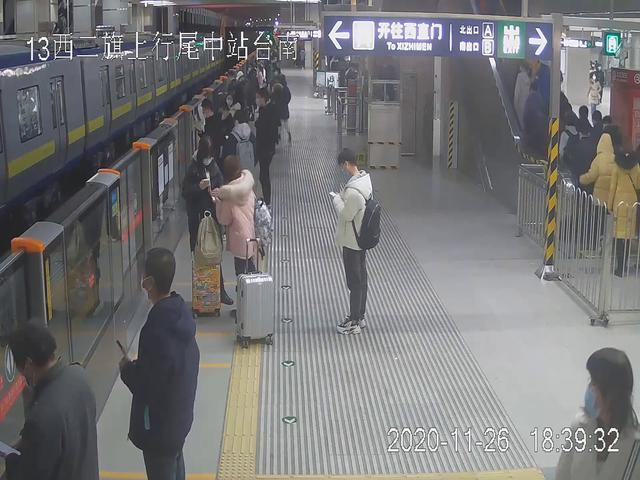person: (125, 247, 201, 480), (2, 323, 102, 480), (558, 343, 640, 480), (331, 147, 384, 333), (185, 129, 237, 305), (219, 153, 270, 320), (252, 87, 281, 209)
